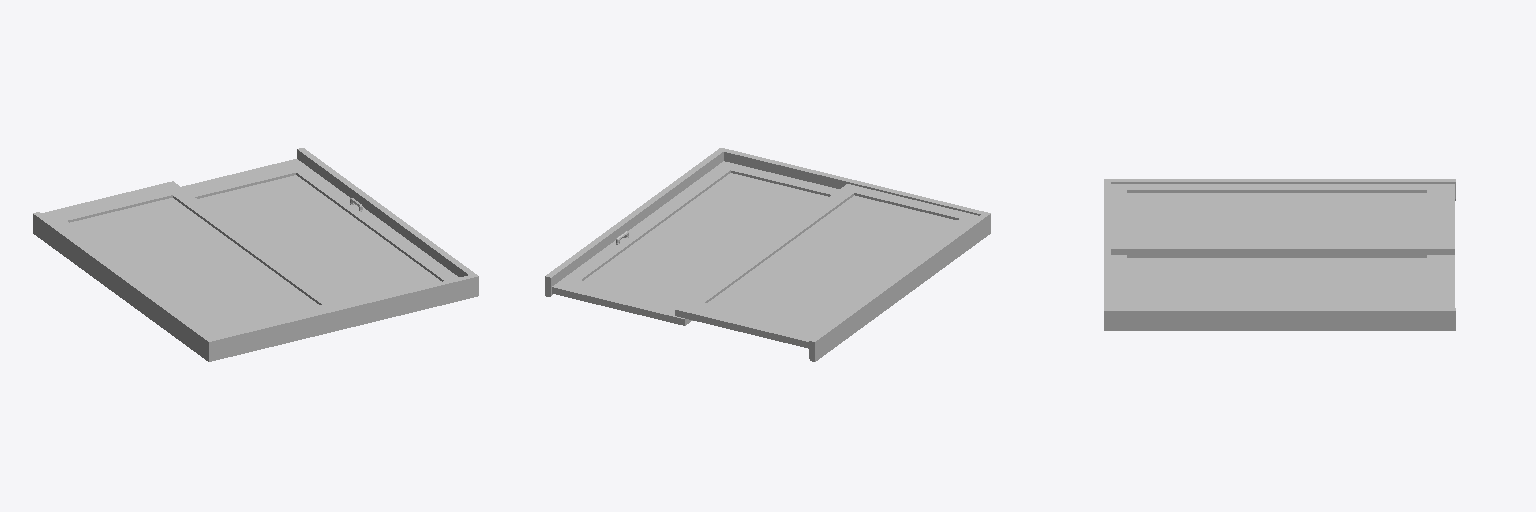
File: 16668_84x96_Slider_Door-Black_V1.obj
3 views of the same model, side by side, from view 1: azimuth 30°, elevation 25°; view 2: azimuth 150°, elevation 25°; view 3: azimuth 270°, elevation 25° (orthographic).
Parts seen in each view (by area): view 1: Slider84x105; view 2: Slider84x105; view 3: Slider84x105.
Boxes of the visible parts, x1=… form: Slider84x105: x1=33, y1=148, x2=478, y2=361; Slider84x105: x1=545, y1=148, x2=990, y2=361; Slider84x105: x1=1104, y1=179, x2=1455, y2=330.
Size of the model in its own units: 218 by 17.31 by 246.